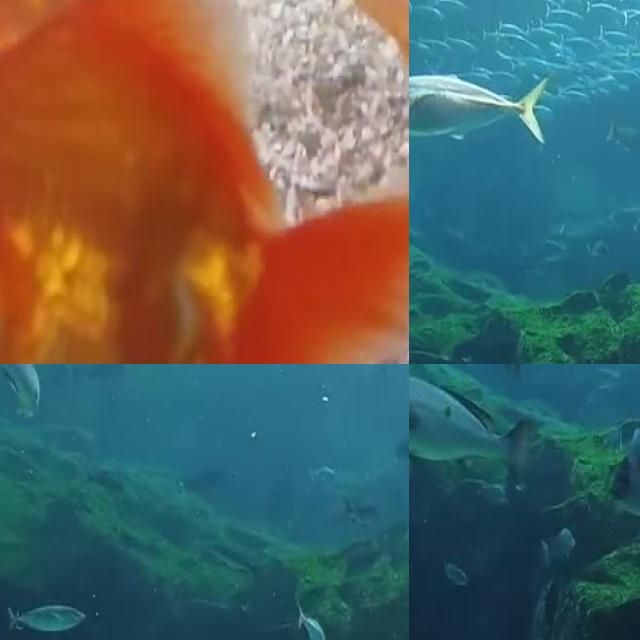fish: (0, 0, 409, 364), (409, 58, 542, 132)
